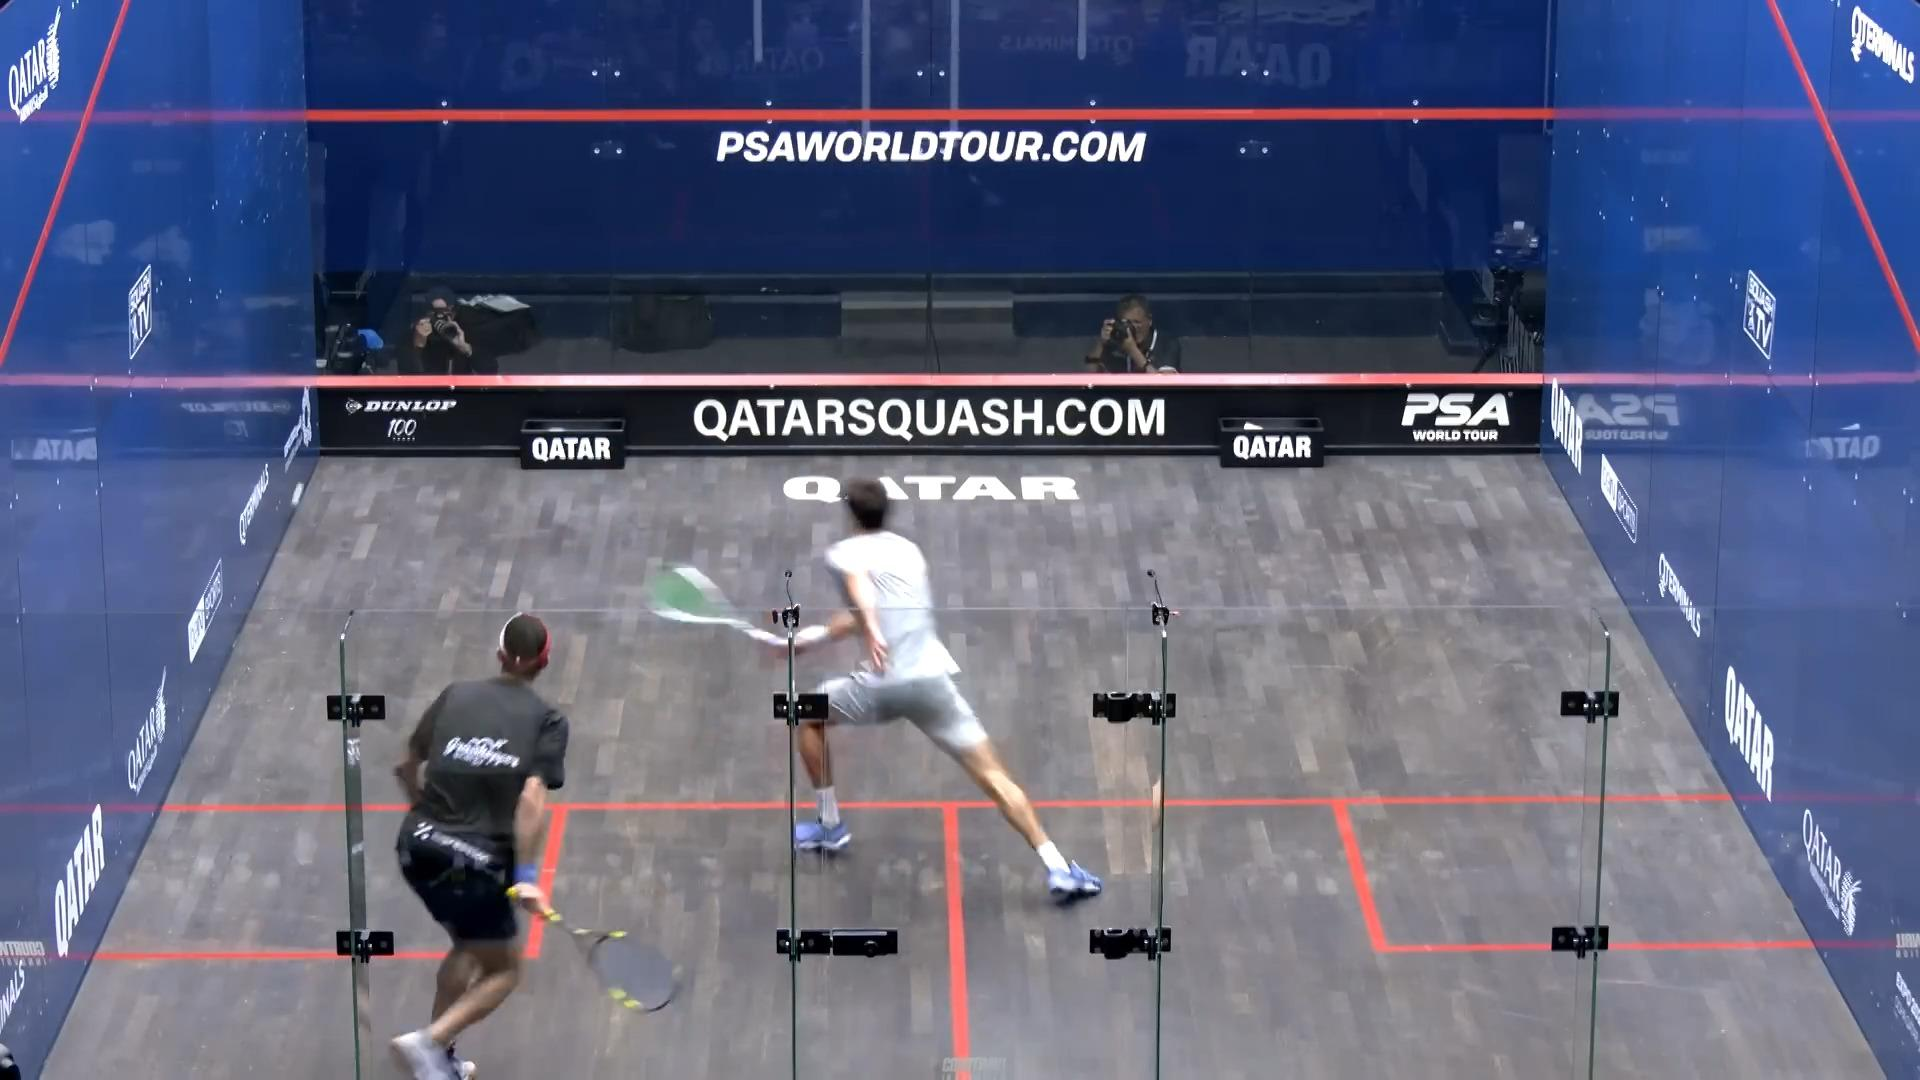Racket: (542, 910, 691, 1018), (638, 555, 781, 653)
